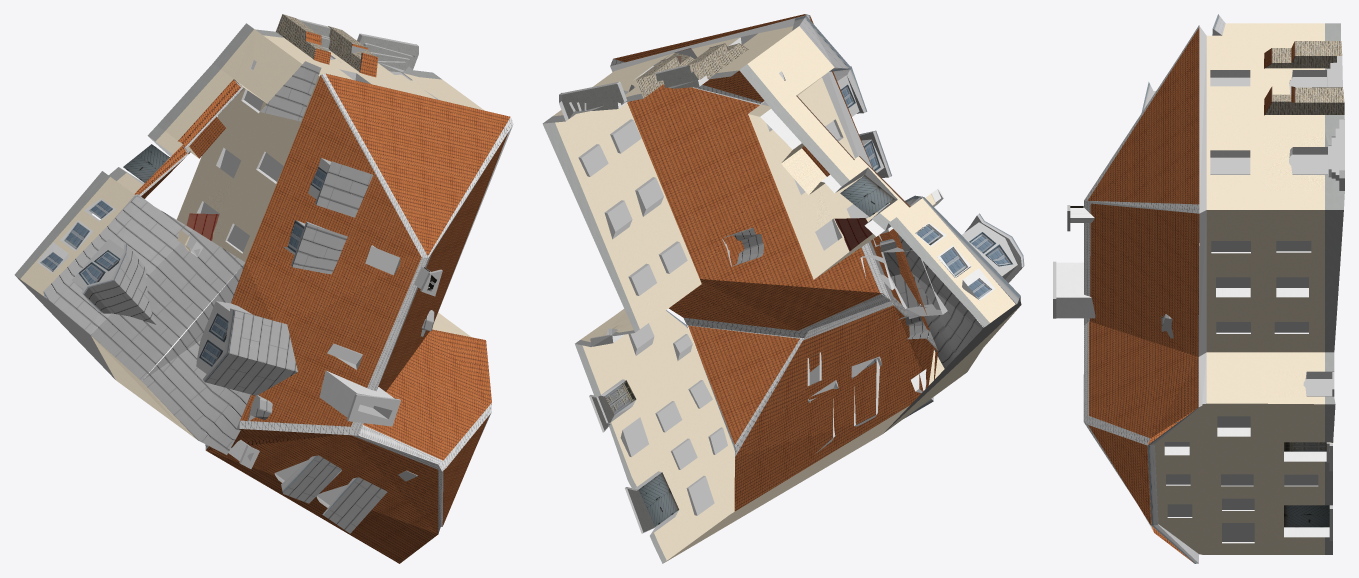
The model's file is Kohtu-5-origo.obj.
3 renders of one model, left to right at view 1: azimuth 30°, elevation 25°; view 2: azimuth 150°, elevation 25°; view 3: azimuth 270°, elevation 25°, orthographic. The views are drawn at different scales.
Parts seen in each view (by area): view 1: Kohtu_5; view 2: Kohtu_5; view 3: Kohtu_5.
Part boxes in pixels (left/top/right/bottom): Kohtu_5: left=14, top=14, right=513, bottom=563; Kohtu_5: left=542, top=14, right=1024, bottom=563; Kohtu_5: left=1053, top=14, right=1344, bottom=563.
Size of the model in its own units: 28.19 by 32 by 16.6.
